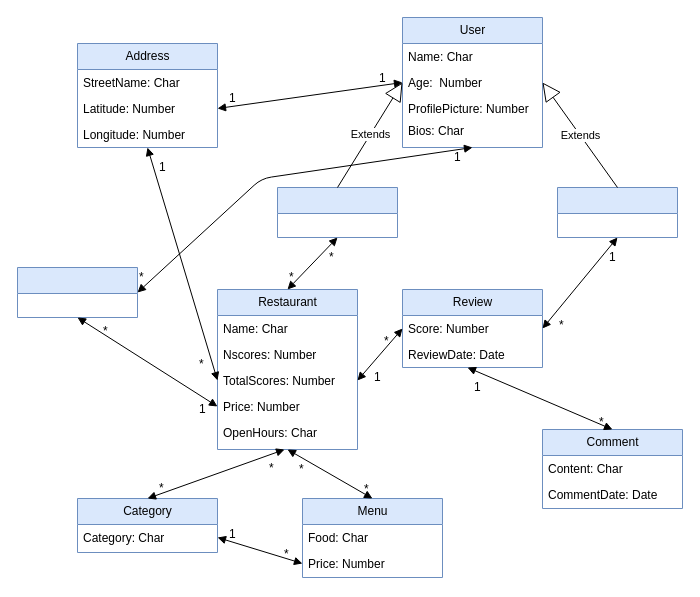
The diagram is 700 pixels wide and 597 high, and some of its shapes have lost their labels. Here are the shapes that lost their labels. From the top down, the centre of each, then its label:
At (337,212): "Owner".
At (617,212): "Reviewer".
At (77,292): "Picture".
